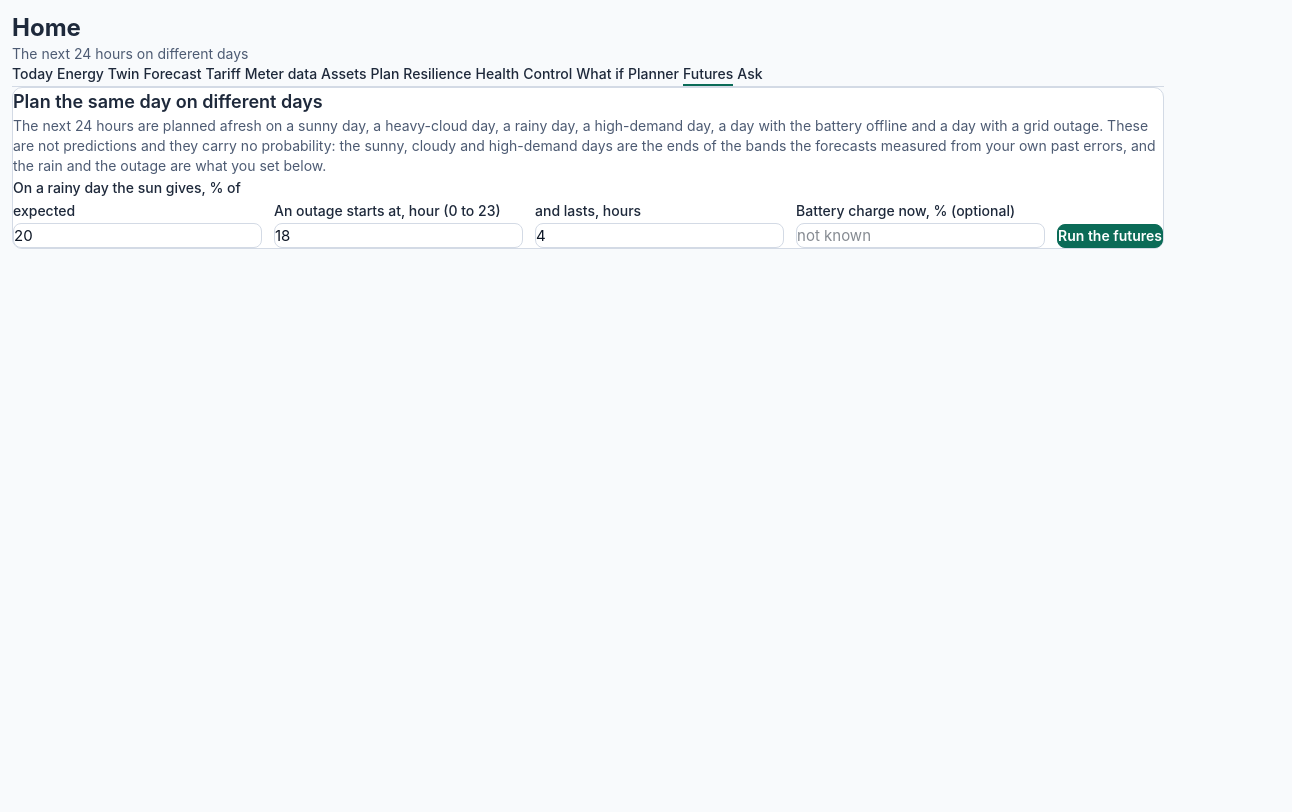
Test: FuturesView › gives the day that cannot be run its reason, and no number
Click the button "Run the futures" at (1110, 236), box 1057,224 -> 1163,248
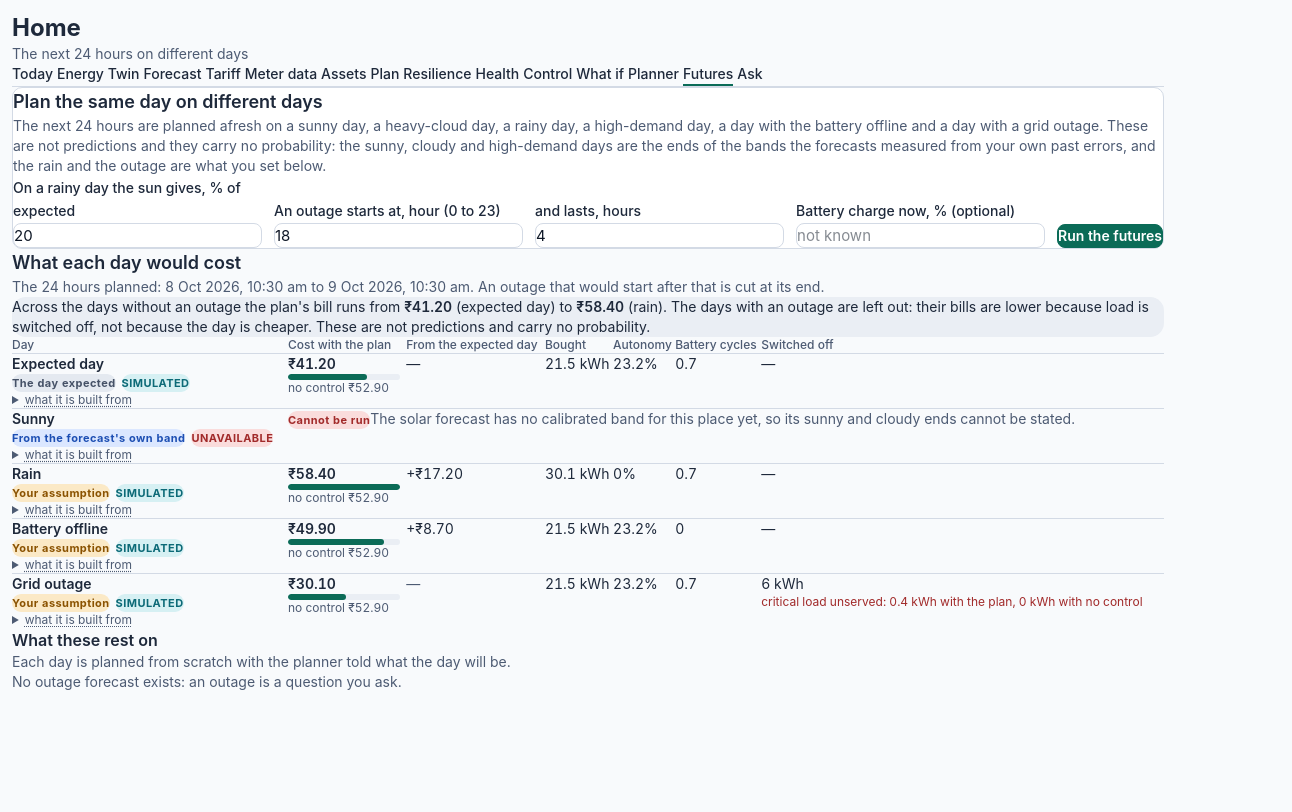
expect the text "Cannot be run" is shown: met, box 288,411 -> 370,429
expect the text "no calibrated band for this place yet" is shown: met, box 370,410 -> 1075,427
